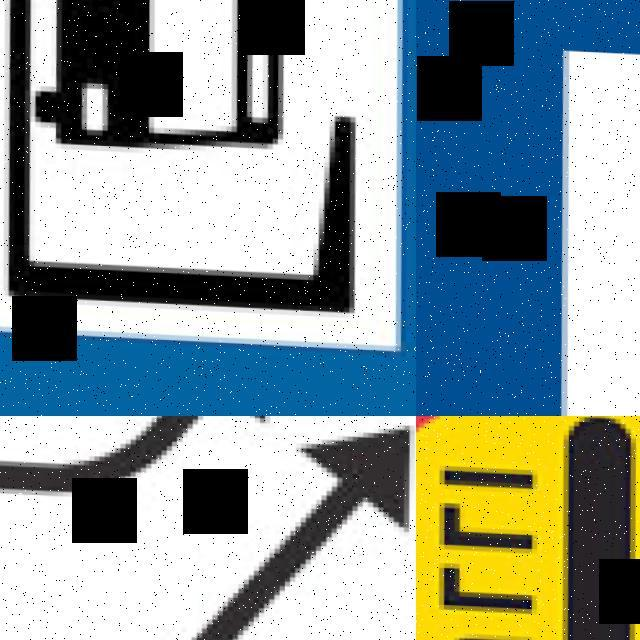117: (416, 416, 640, 640)
170: (0, 416, 416, 640)
Bus stop: (0, 0, 416, 416)
Hotel: (416, 0, 640, 416)
Passing without stopping prohibited: (416, 416, 640, 640)
